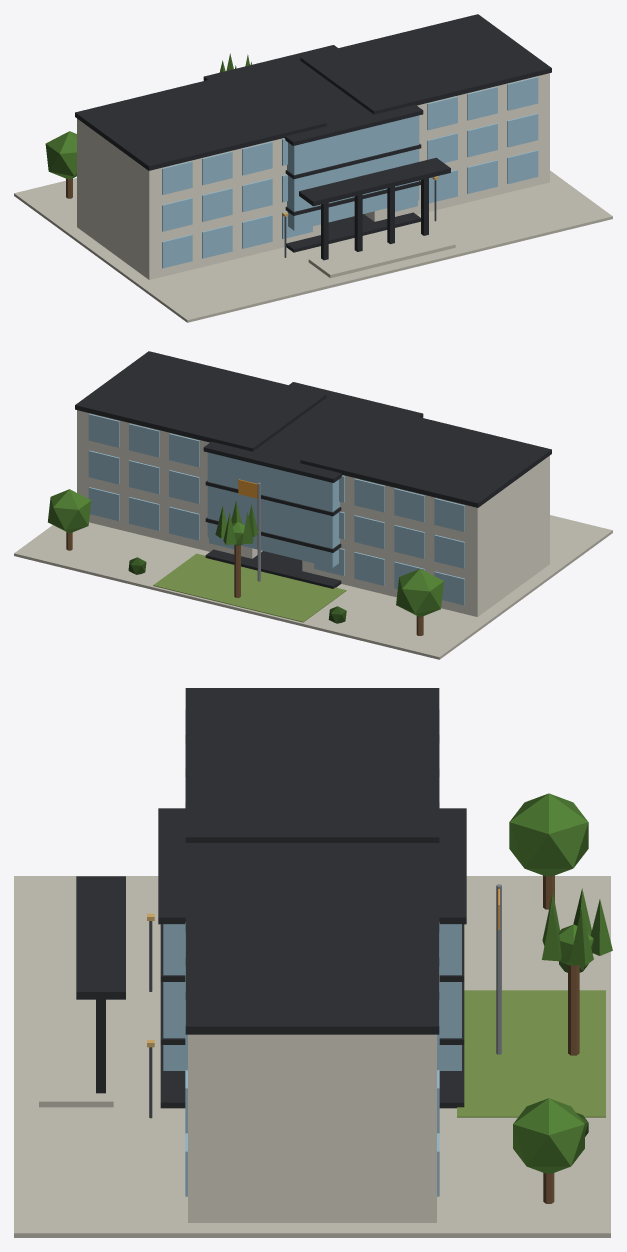
Rendered from building.school-community-college.glb.
3 views of the same model, one above another, from view 1: azimuth 30°, elevation 25°; view 2: azimuth 150°, elevation 25°; view 3: azimuth 270°, elevation 25° (orthographic). The views are drawn at different scales.
Visible parts, largest first — view 1: building.school-community-college; view 2: building.school-community-college; view 3: building.school-community-college.
Part boxes in pixels (x1,y1,x2,y2): building.school-community-college: (14, 14, 612, 322); building.school-community-college: (14, 351, 612, 659); building.school-community-college: (14, 688, 612, 1237).
Size of the model in its own units: 34 by 8.95 by 24.07.
